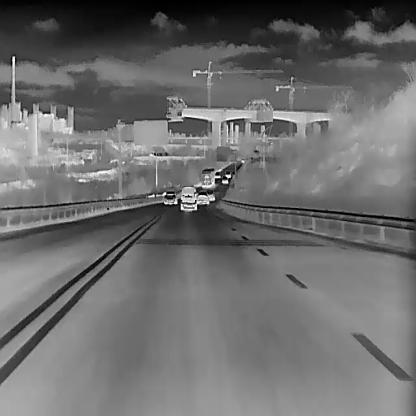car: (180, 186, 196, 210), (162, 191, 179, 210), (201, 167, 214, 189), (196, 191, 208, 205), (206, 190, 215, 201), (221, 176, 227, 184), (225, 171, 231, 178), (214, 171, 220, 178)
